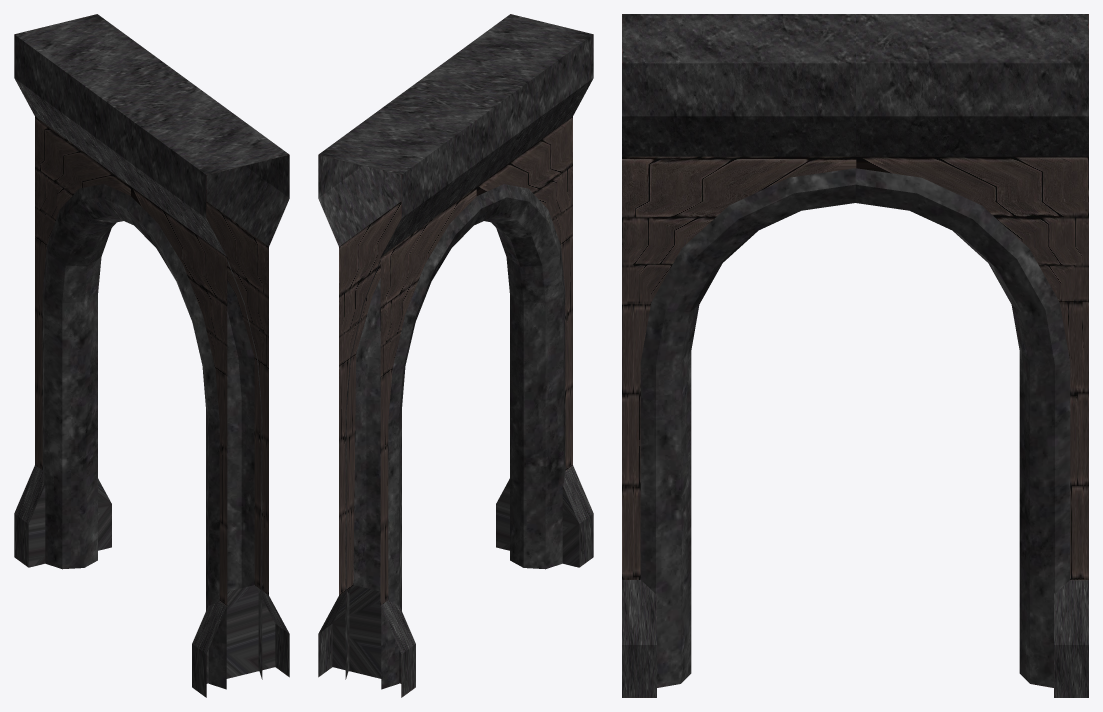
The model's file is Bk_WallA.glb.
The picture shows the model from 3 angles, left to right: view 1: azimuth 30°, elevation 25°; view 2: azimuth 150°, elevation 25°; view 3: azimuth 270°, elevation 25°; orthographic projection. The views are drawn at different scales.
Parts seen in each view (by area): view 1: Bk_WallA; view 2: Bk_WallA; view 3: Bk_WallA.
Part boxes in pixels (box(x1,y1,x2,y2)): Bk_WallA: box(14, 14, 289, 697); Bk_WallA: box(318, 14, 593, 697); Bk_WallA: box(622, 14, 1088, 697).
Size of the model in its own units: 0.5 by 3 by 2.
1 material, 1 textured.
